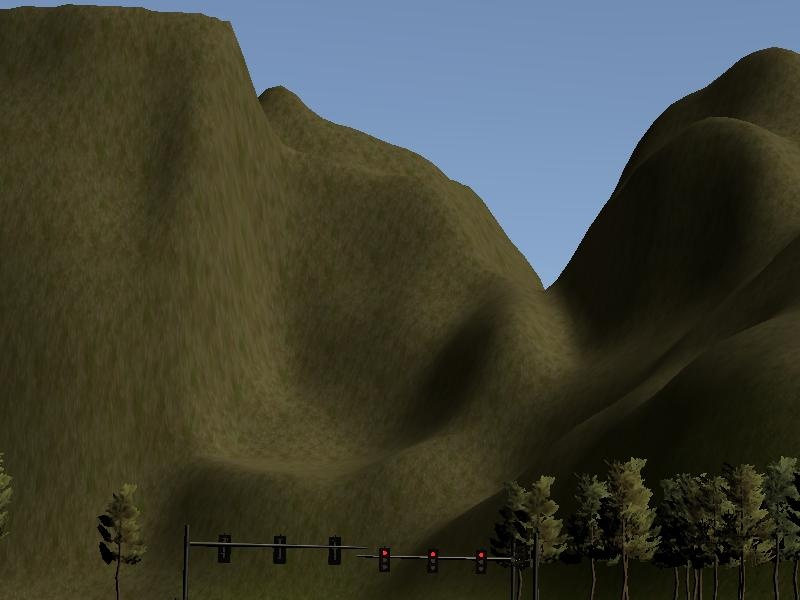red: (379, 548, 390, 575), (475, 548, 486, 575), (429, 549, 438, 573)
